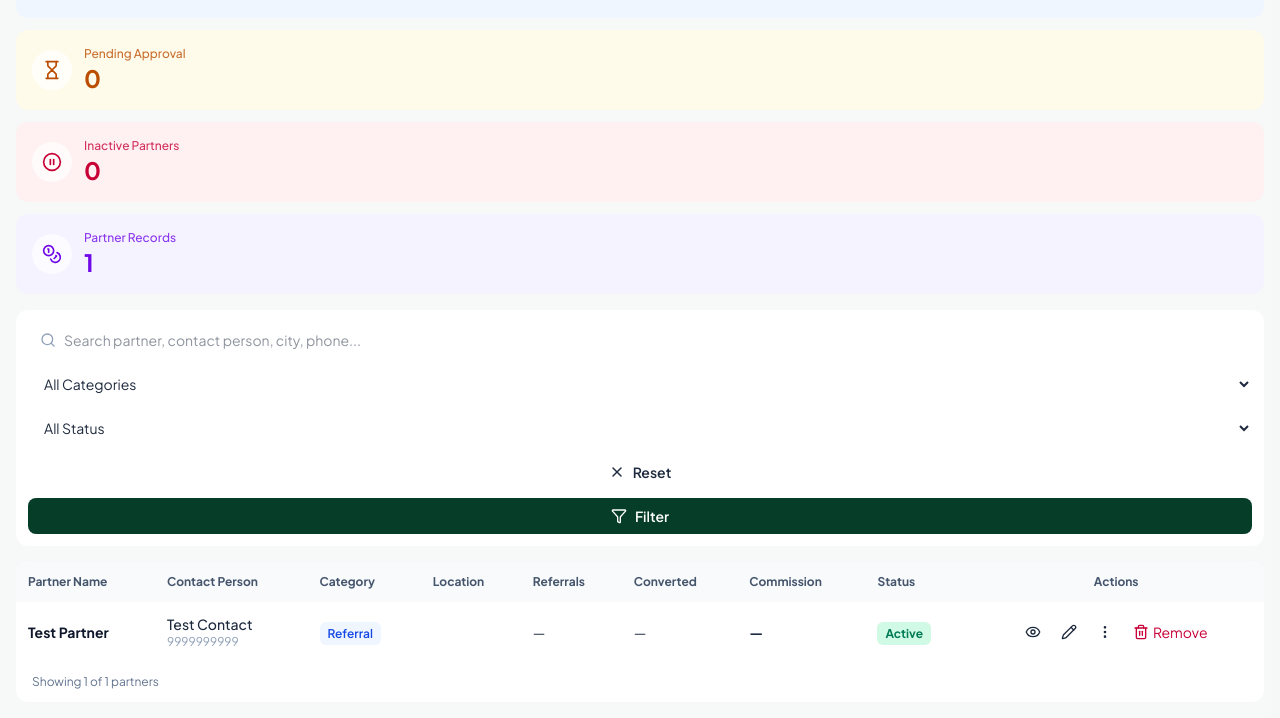
Test case: remove requires confirmation and then updates the list
(page scrolled)
Click the button "Remove" at [1170, 632], box [1125, 614, 1216, 650]
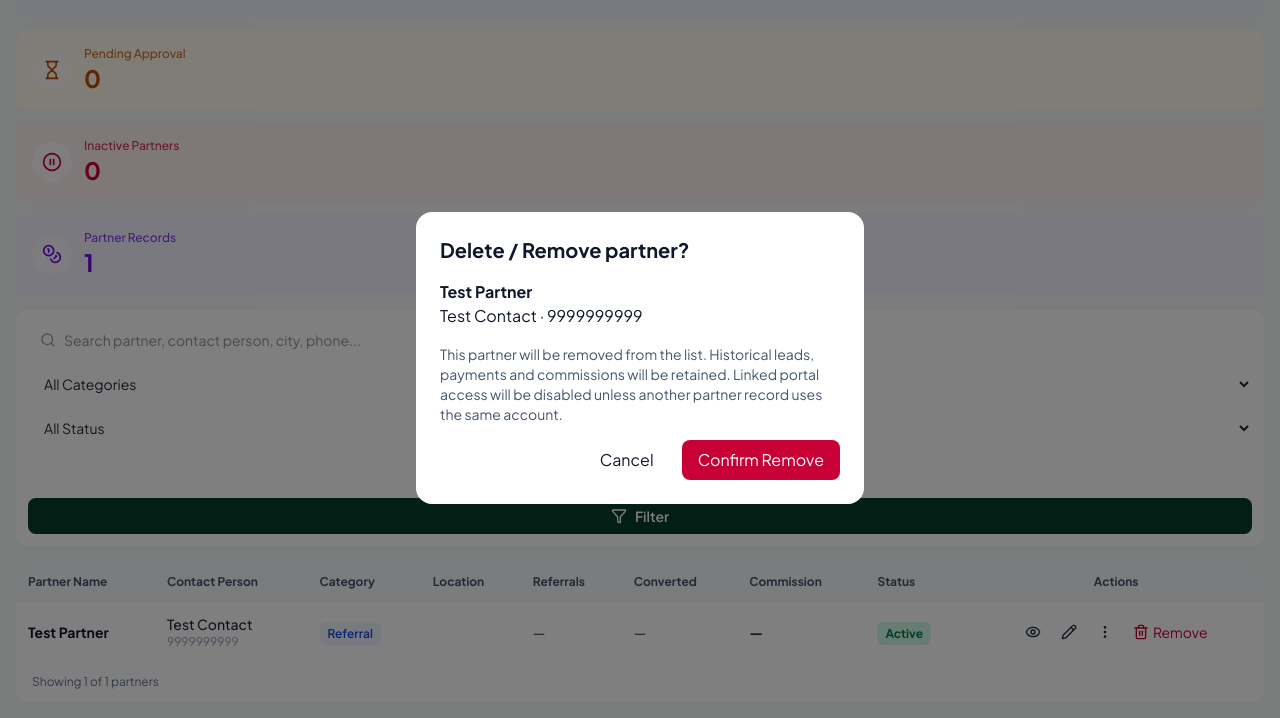
Click the button "Cancel" at [627, 460], box [584, 440, 670, 480]
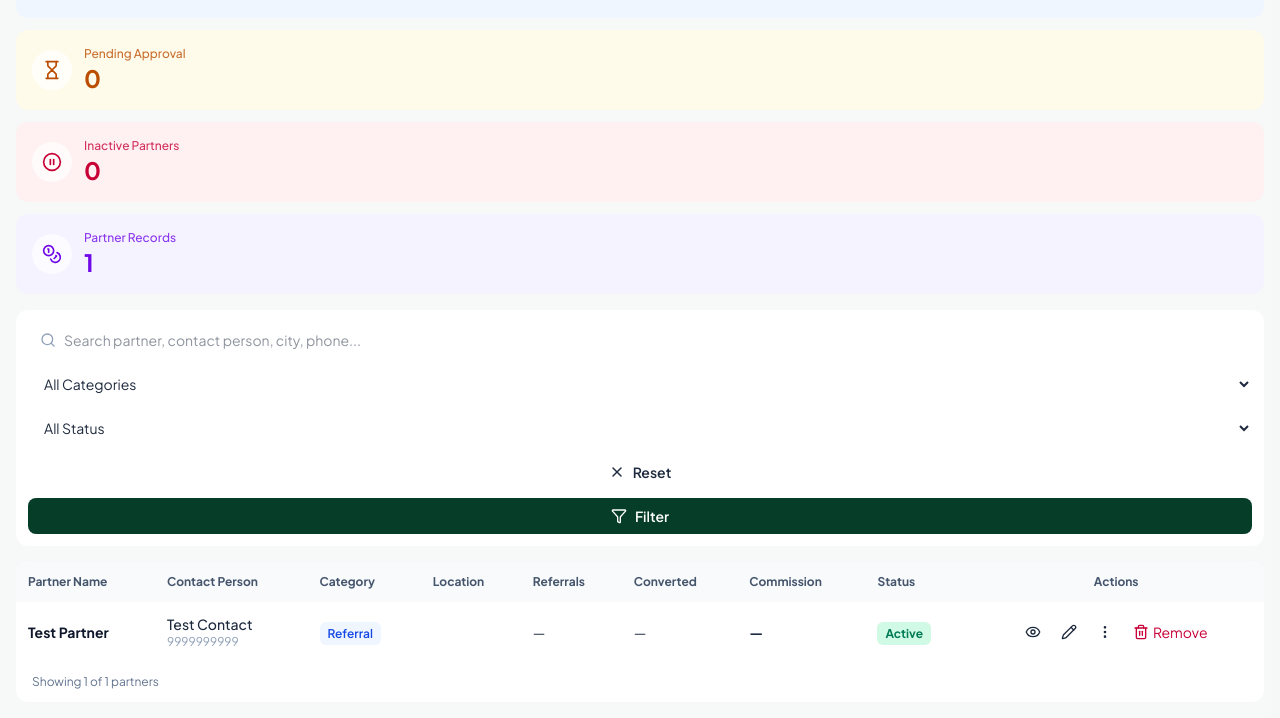
Click the button "Remove" at [1170, 632], box [1125, 614, 1216, 650]
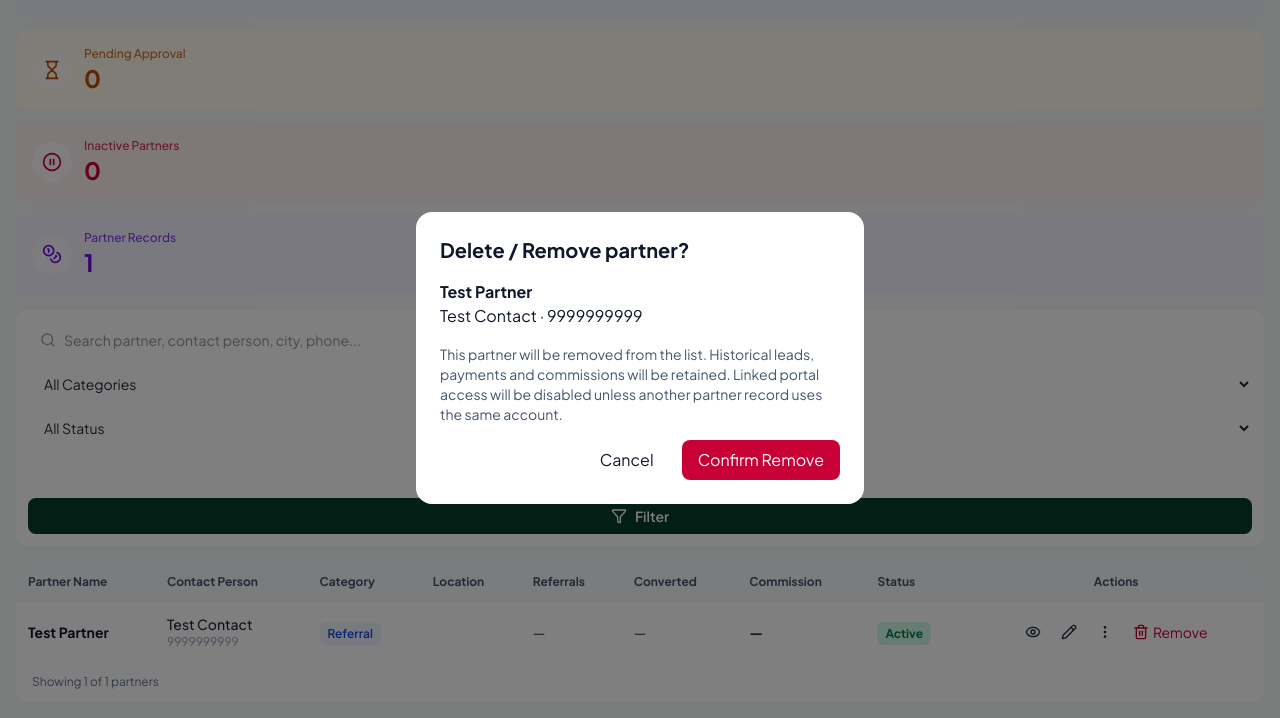
Click the button "Confirm Remove" at [761, 460], box [682, 440, 840, 480]
(page scrolled)
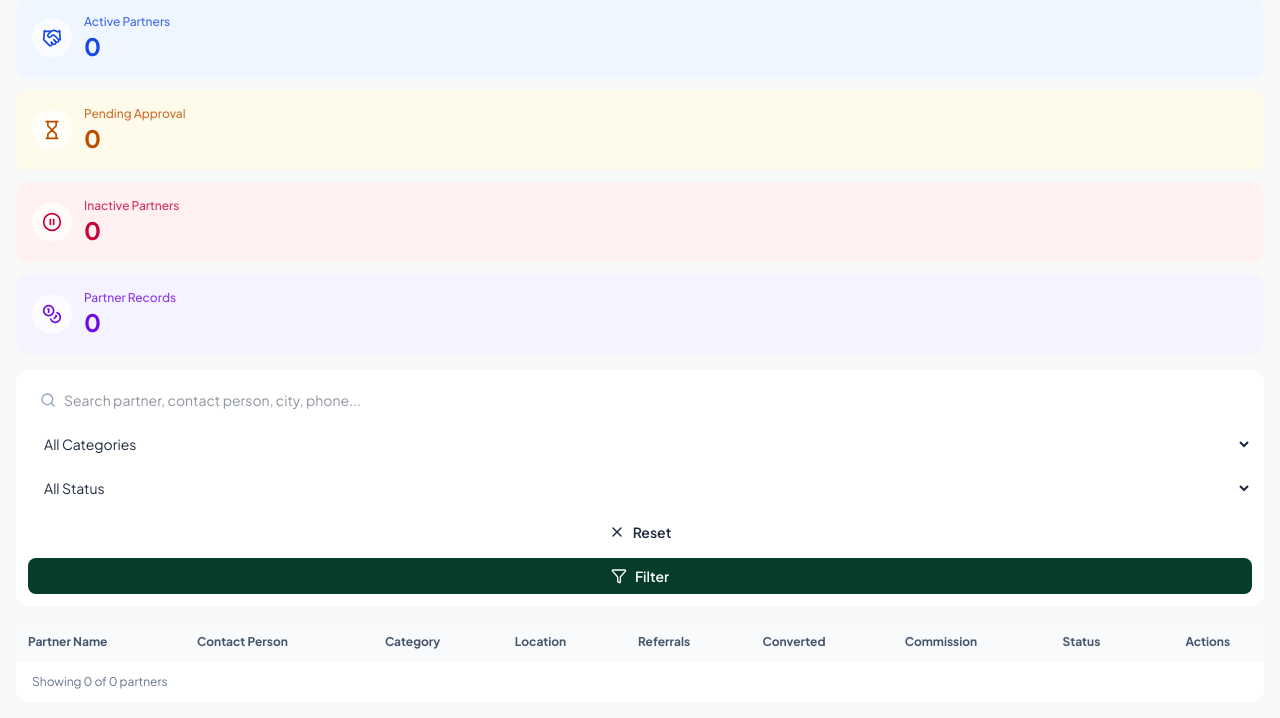
expect the text "Test Partner" is gone: met
